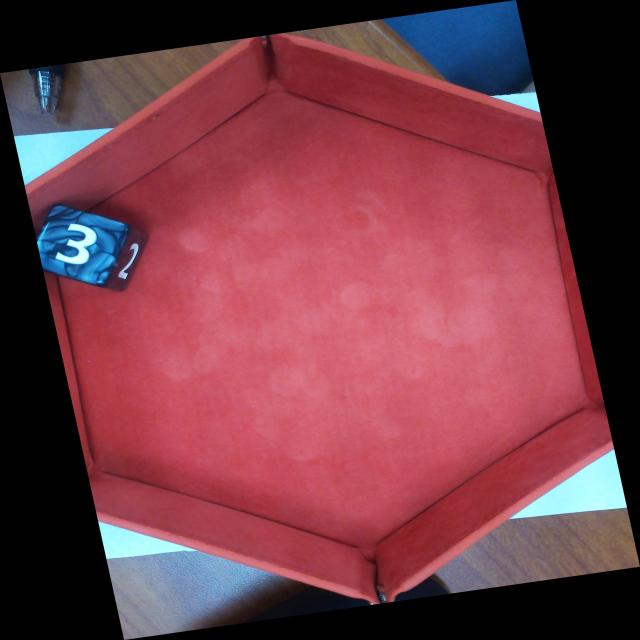dice: (34, 206, 128, 287)
